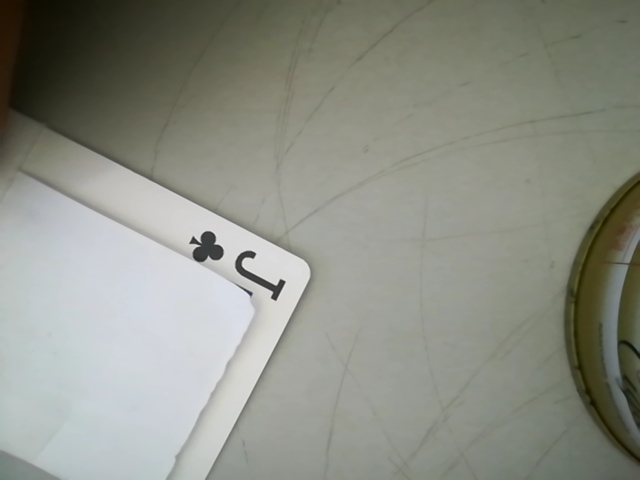mh j: (165, 218, 297, 296)
